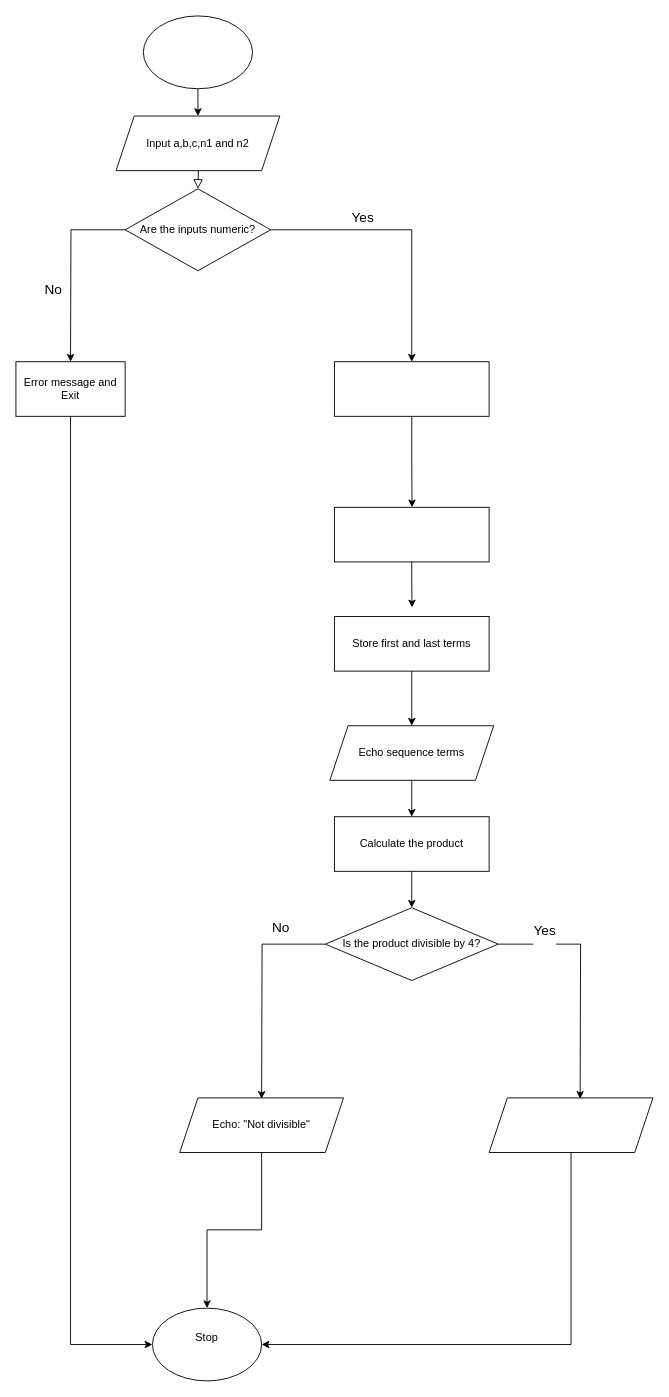
The diagram is 669 pixels wide and 1397 high, and some of its shapes have lost their labels. The shapes that lost their labels are listed below. From the top down, each one's centre as x and y in pixels, then its label:
(x=197, y=52): Start Sequence
(x=411, y=388): Loop n from n1 to n2
(x=411, y=534): Calculate the term (n)
(x=570, y=1125): Echo: "Divisible by 4"
